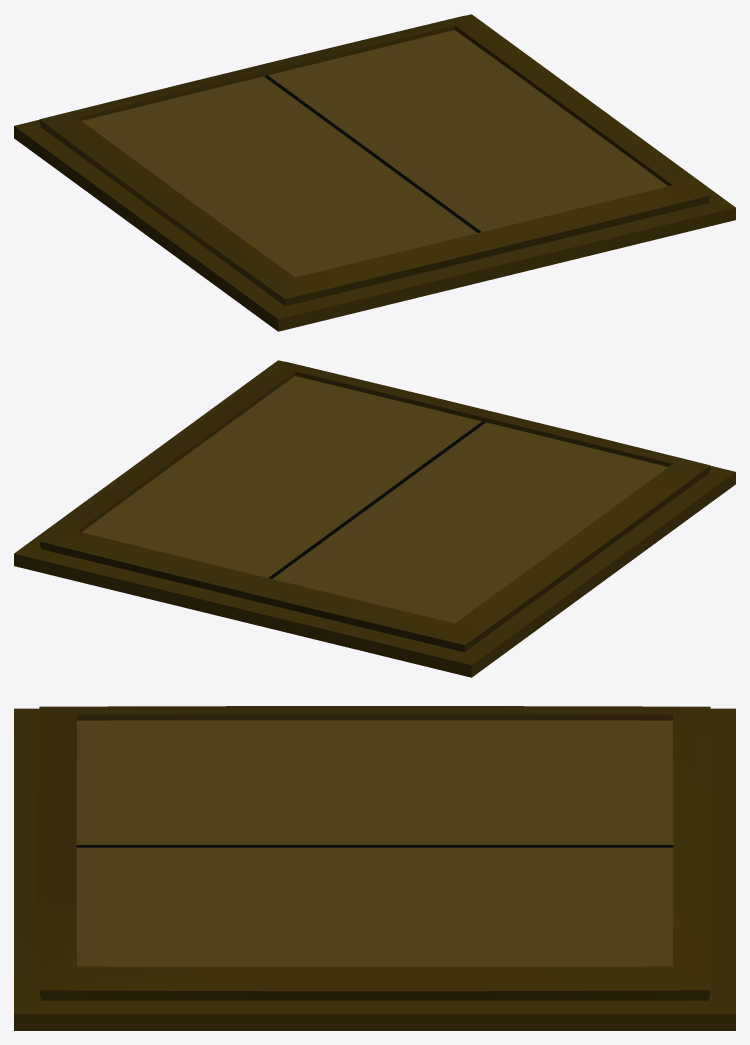
Rendered from Trapdoor.fbx.
3 views of the same model, one above another, from view 1: azimuth 30°, elevation 25°; view 2: azimuth 150°, elevation 25°; view 3: azimuth 270°, elevation 25° (orthographic). The views are drawn at different scales.
Parts seen in each view (by area): view 1: pPlane1; view 2: pPlane1; view 3: pPlane1.
Boxes of the visible parts, bbox=[...] form: pPlane1: bbox=[14, 14, 735, 331]; pPlane1: bbox=[14, 360, 735, 677]; pPlane1: bbox=[14, 706, 735, 1030].
Size of the model in its own units: 1 by 0.0661 by 1.
